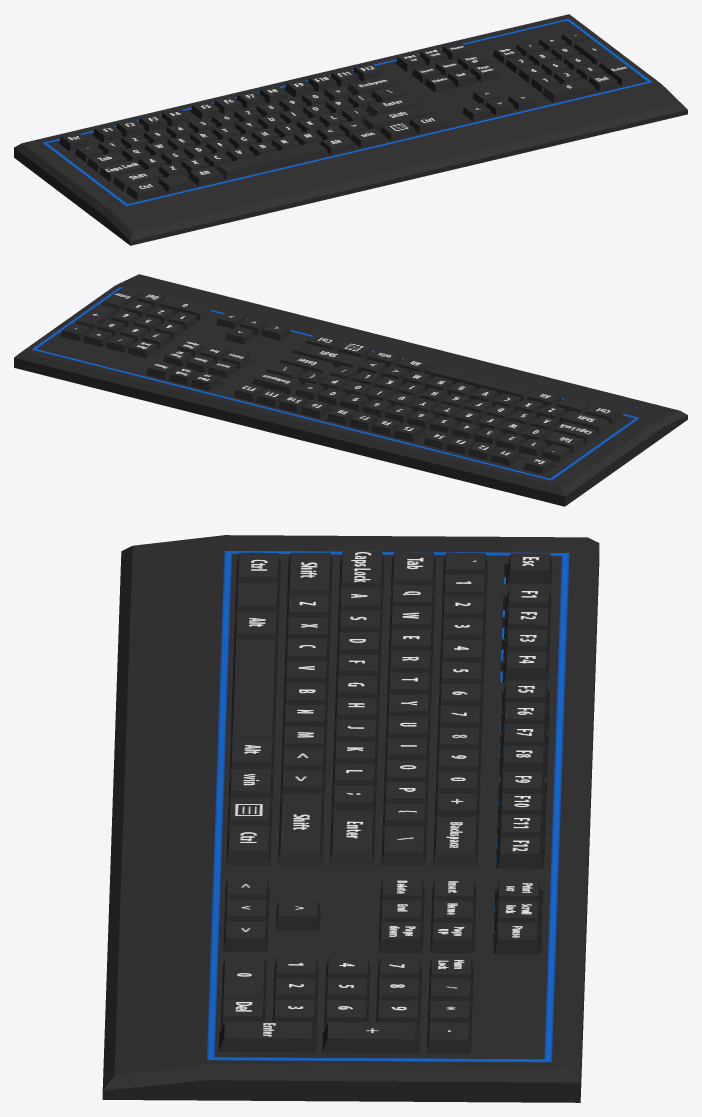
The model's file is teclado.glb.
3 views of the same model, one above another, from view 1: azimuth 30°, elevation 25°; view 2: azimuth 150°, elevation 25°; view 3: azimuth 270°, elevation 25° (orthographic). The views are drawn at different scales.
Parts seen in each view (by area): view 1: teclaso; view 2: teclaso; view 3: teclaso.
Part boxes in pixels (x1=…): teclaso: x1=14, y1=14, x2=687, y2=245; teclaso: x1=14, y1=274, x2=687, y2=506; teclaso: x1=102, y1=535, x2=599, y2=1102.
Size of the model in its own units: 1.8 by 0.0676 by 0.6974.
Materials: 1 (1 with a texture image).
